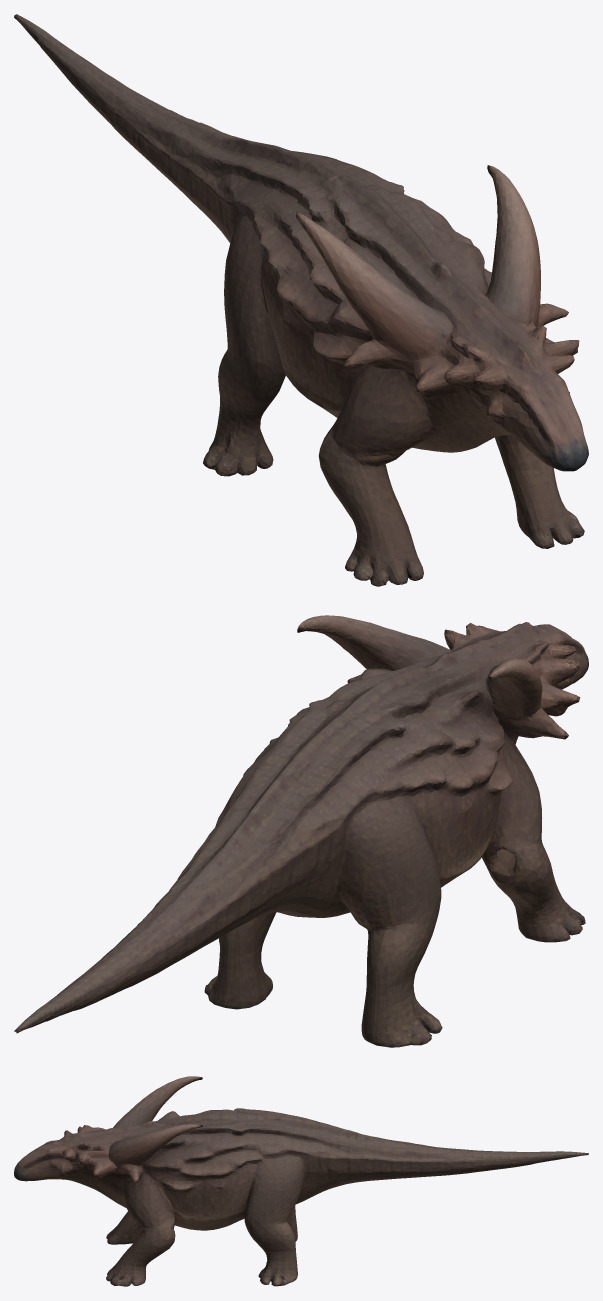
3 views of the same model, one above another, from view 1: azimuth 30°, elevation 25°; view 2: azimuth 150°, elevation 25°; view 3: azimuth 270°, elevation 25° (orthographic). The views are drawn at different scales.
Parts seen in each view (by area): view 1: world; view 2: world; view 3: world.
Boxes of the visible parts, <box> form: world: <box>14,14,588,586</box>; world: <box>14,615,588,1047</box>; world: <box>14,1076,588,1286</box>.
Size of the model in its own units: 1.27 by 1.69 by 5.5.
1 material, 1 textured.
